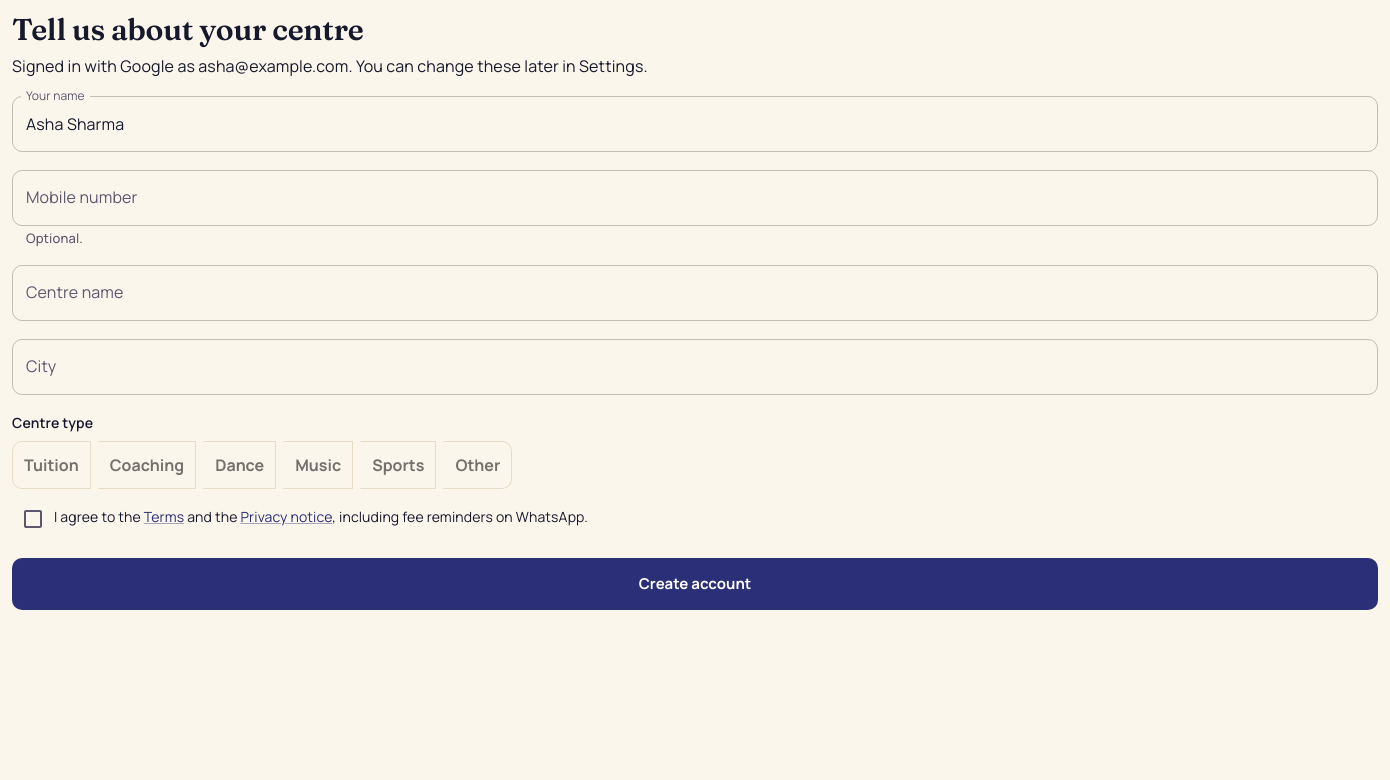
Test case: SignUpForm › names every field at fault before sending anything, and moves to the first
Clear the field labelled "Your name" at coordinates (695, 124), box [12,96,1378,152]
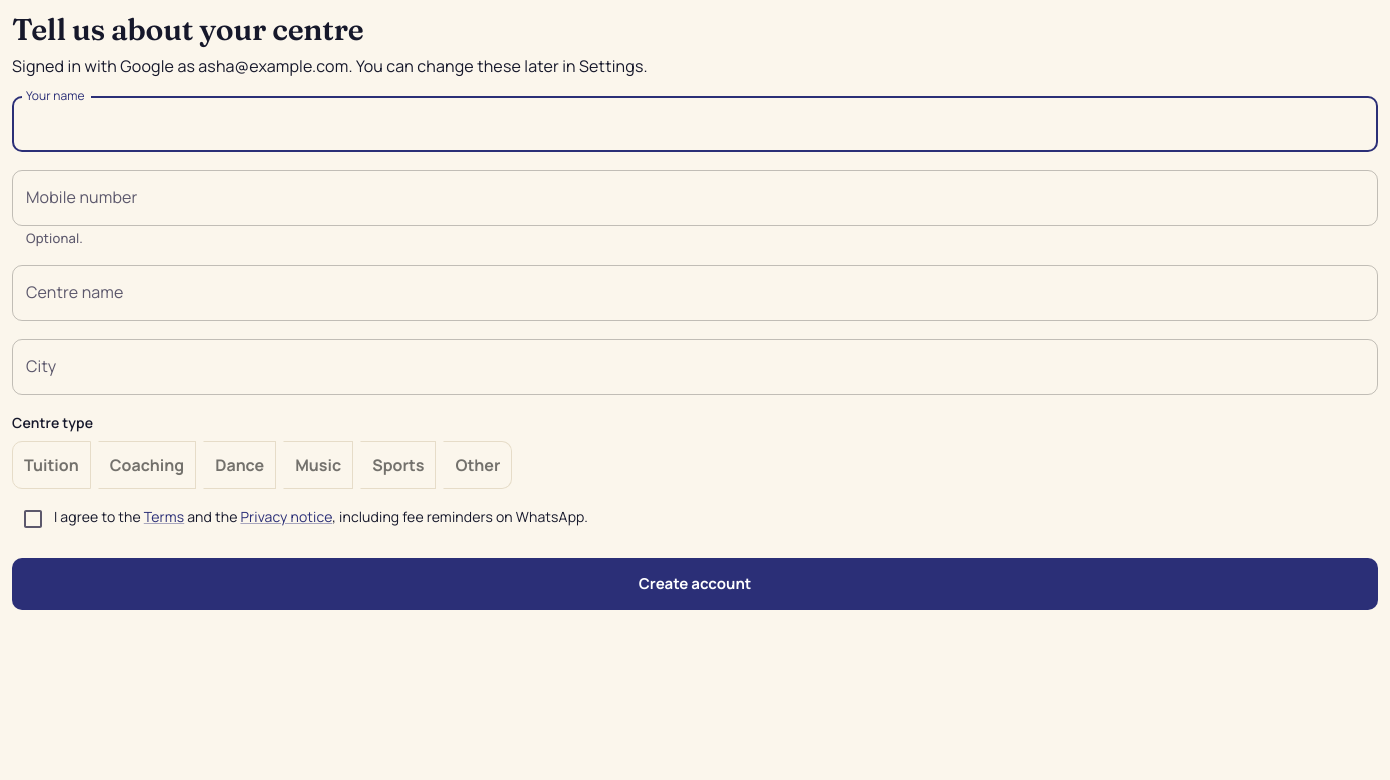
Click the button "Create account" at coordinates (695, 584), box [12,558,1378,610]
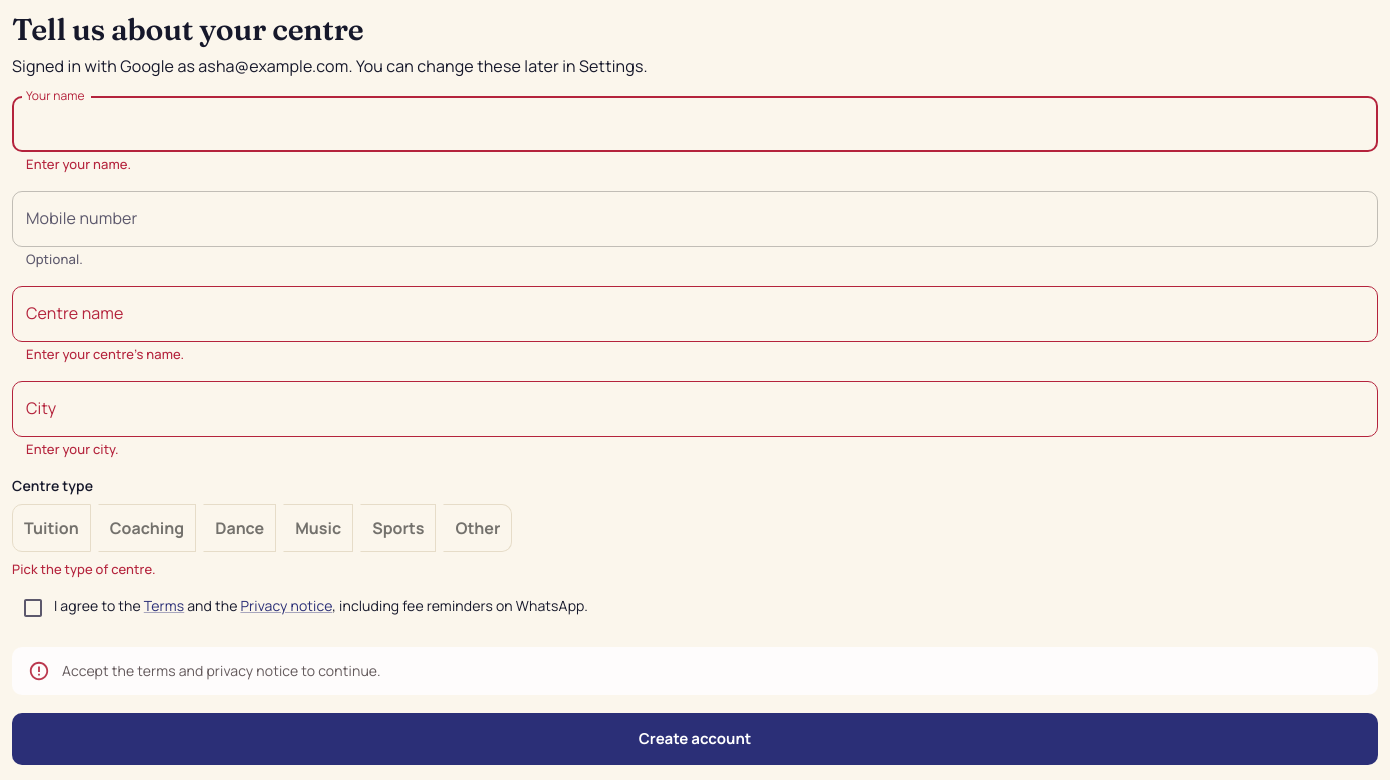
Expected: the text "Pick the type of centre." is shown, [12,560,156,578]
Expected: the message reads "Accept the terms and privacy notice to continue.", [62,661,381,680]
